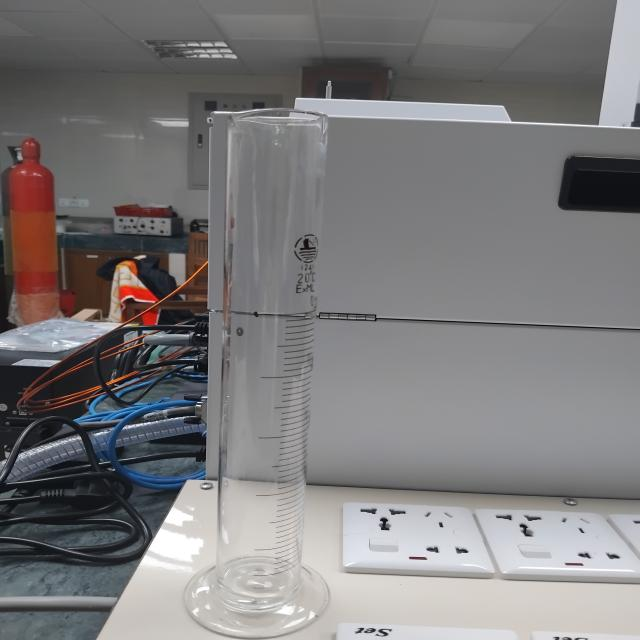Separating_Funnel: (165, 78, 367, 640)
